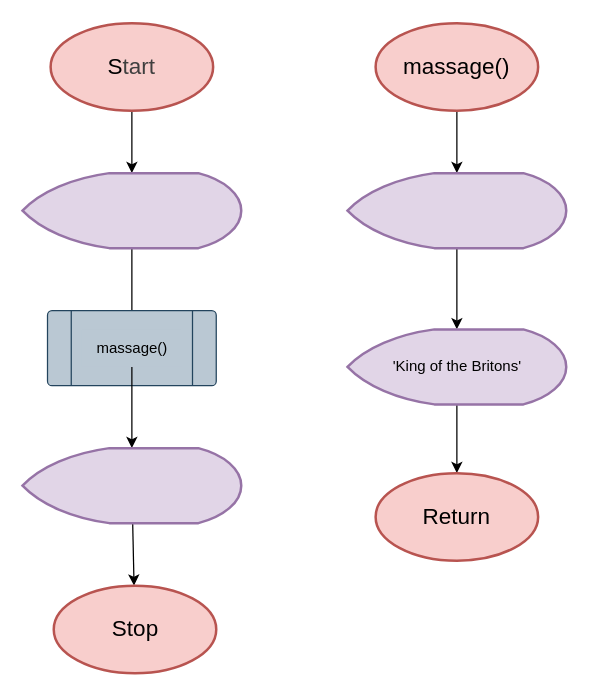
Image size: 589x695. Some labels were removed from this diagram. The centre of each missing label's shape, as x and y in pixels:
"'Goodbye!'" belongs at point (131, 485).
"'I am Arthur'" belongs at point (456, 210).
"'I have a massage for you.'" belongs at point (131, 210).
